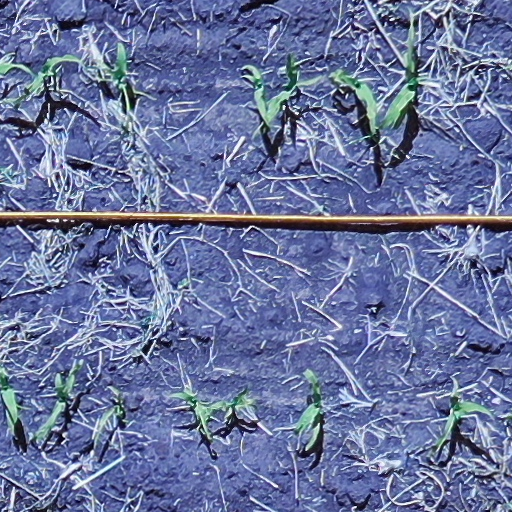planta: (381, 8, 418, 129), (433, 384, 493, 452), (2, 53, 80, 105), (265, 53, 320, 126), (32, 363, 82, 441), (88, 35, 133, 118), (207, 387, 272, 436), (329, 67, 375, 135), (293, 368, 321, 451), (95, 385, 129, 445), (170, 389, 212, 437), (243, 64, 270, 128)
